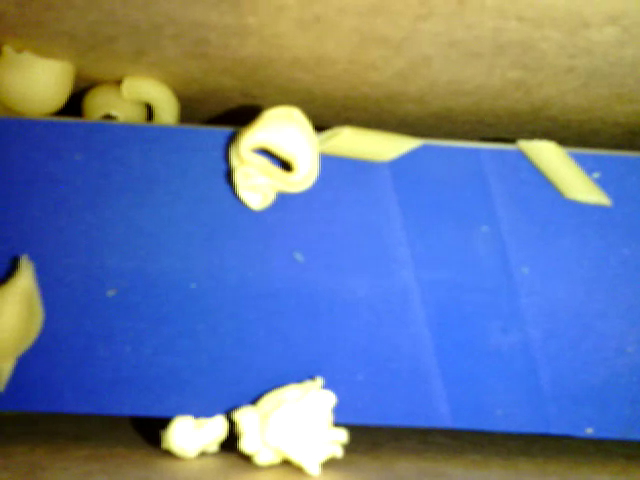elbow: (118, 75, 179, 123)
penne: (512, 139, 611, 208), (317, 123, 424, 166)
shell: (1, 253, 44, 388), (1, 41, 76, 116), (83, 81, 150, 125)
tortellini: (228, 101, 320, 212)
